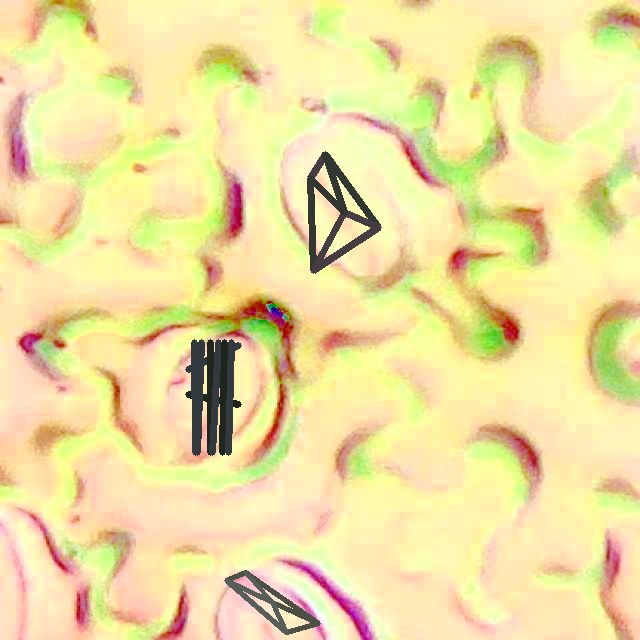close: (307, 151, 381, 273), (185, 339, 240, 455), (224, 570, 320, 633)
